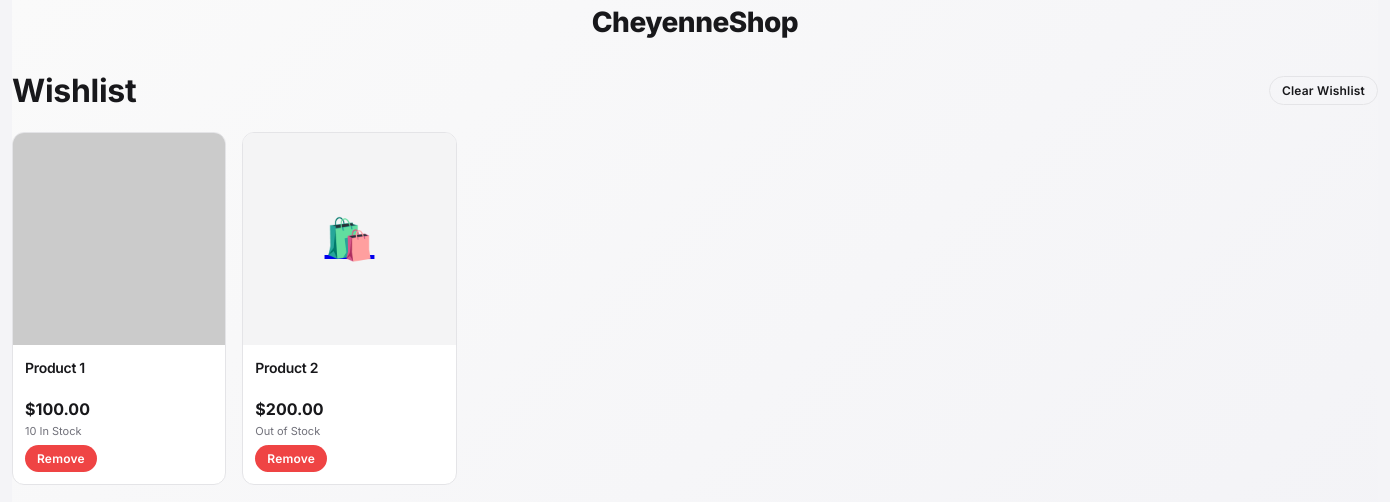
Test: Wishlist › Remove Item › should disable button while removing
Click the button "Remove" below "10 In Stock" at (61, 458), box [25, 444, 97, 472]
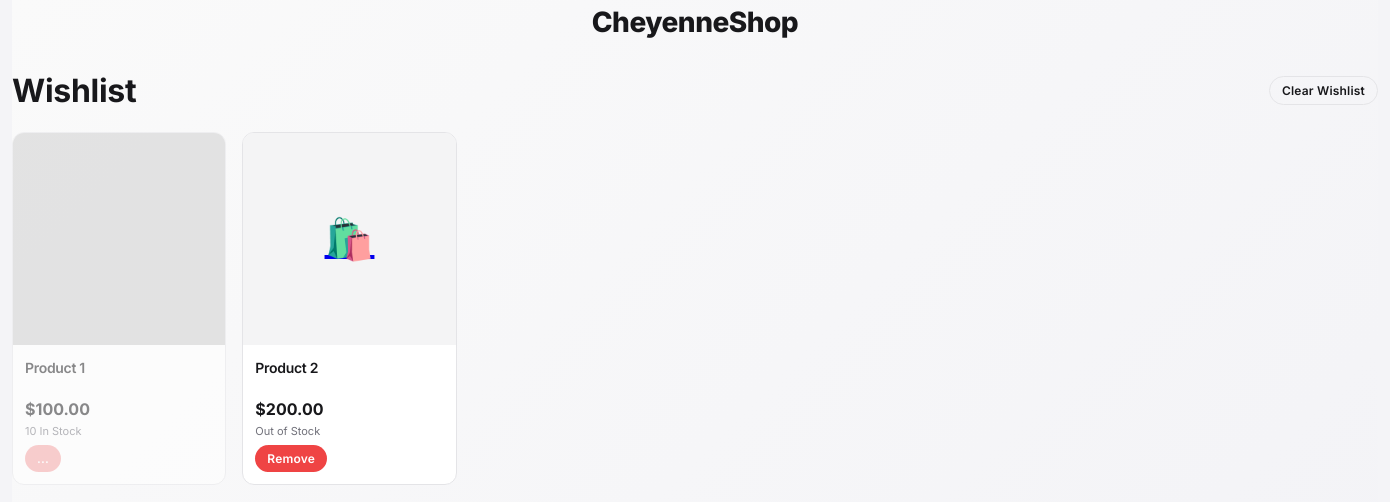
Expected: the button "remove" is disabled, [25, 444, 61, 472]
